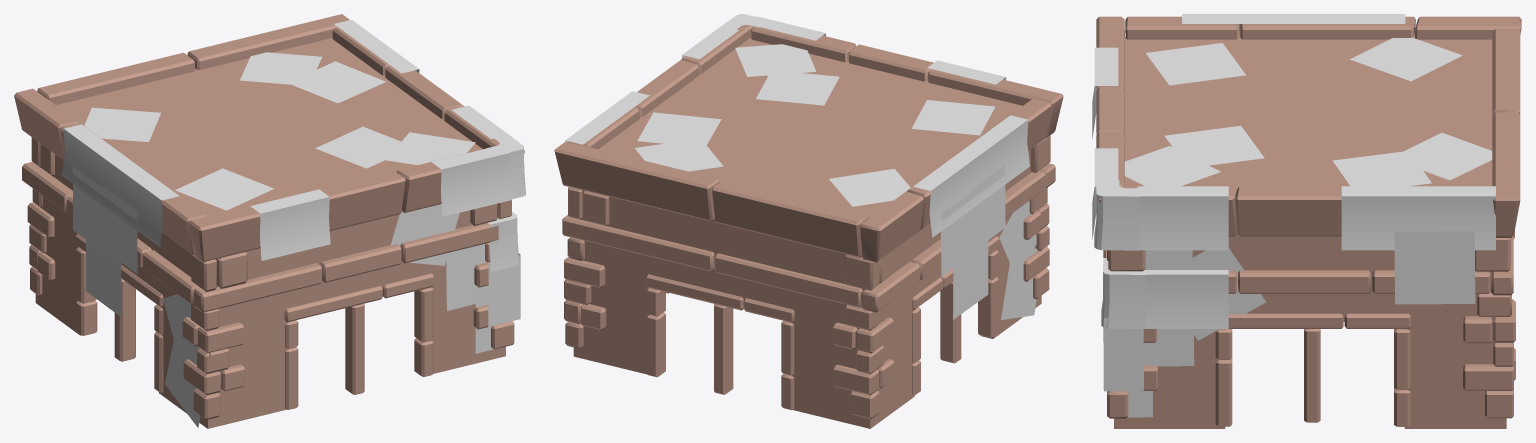
The model's file is Scene_2_Temple.fbx.
The picture shows the model from 3 angles, left to right: view 1: azimuth 30°, elevation 25°; view 2: azimuth 150°, elevation 25°; view 3: azimuth 270°, elevation 25°; orthographic projection. The views are drawn at different scales.
Visible parts, largest first — view 1: Temple; view 2: Temple; view 3: Temple.
Boxes of the visible parts, x1,y1,x2,y2 form: Temple: [14, 14, 525, 428]; Temple: [554, 14, 1063, 428]; Temple: [1092, 14, 1521, 428].
Bounding box in the file's own units: 1795 × 1117 × 1765.
